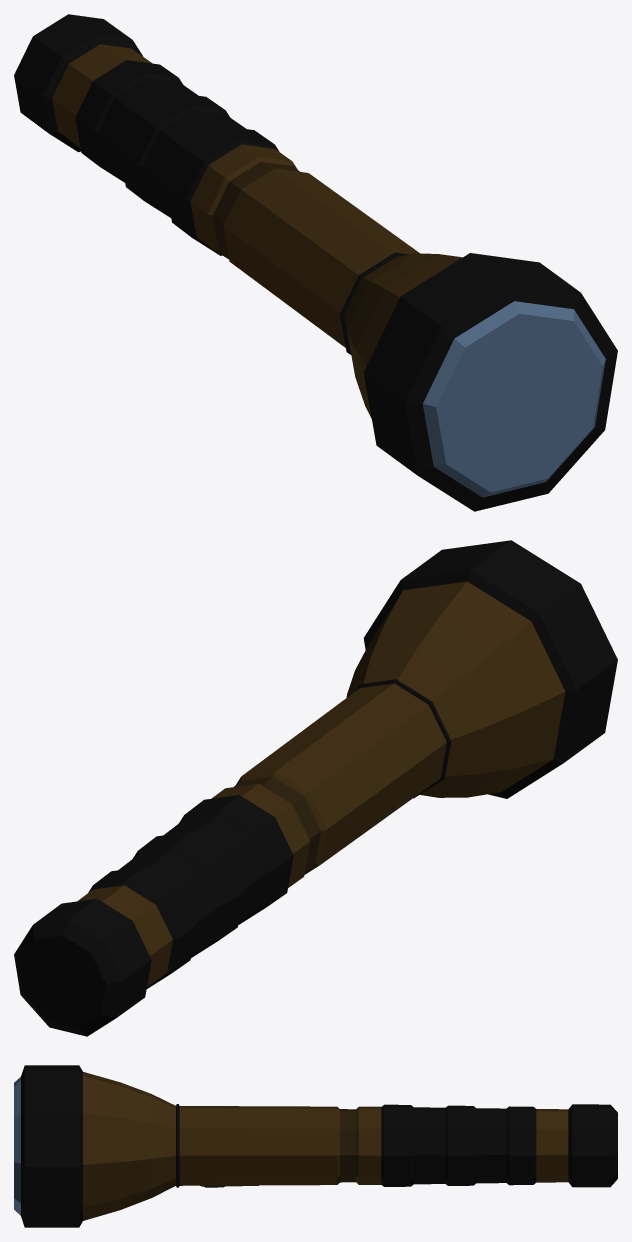
Rendered from Flashlight.obj.
3 views of the same model, one above another, from view 1: azimuth 30°, elevation 25°; view 2: azimuth 150°, elevation 25°; view 3: azimuth 270°, elevation 25° (orthographic). The views are drawn at different scales.
Parts seen in each view (by area): view 1: Torch_1, Torch_0, Torch_2, Torch_3; view 2: Torch_0, Torch_1, Torch_3; view 3: Torch_0, Torch_1, Torch_3, Torch_2.
Part boxes in pixels (x1,y1,x2,y2): Torch_1: [14, 14, 617, 511]; Torch_0: [52, 44, 462, 418]; Torch_2: [423, 301, 605, 497]; Torch_3: [212, 161, 299, 255]; Torch_0: [78, 581, 565, 986]; Torch_1: [14, 540, 617, 1036]; Torch_3: [234, 776, 321, 870]; Torch_0: [83, 1072, 568, 1220]; Torch_1: [21, 1065, 617, 1227]; Torch_3: [200, 1109, 355, 1186]; Torch_2: [14, 1077, 20, 1215].
Size of the model in its own units: 0.07 by 0.0689 by 0.26.
